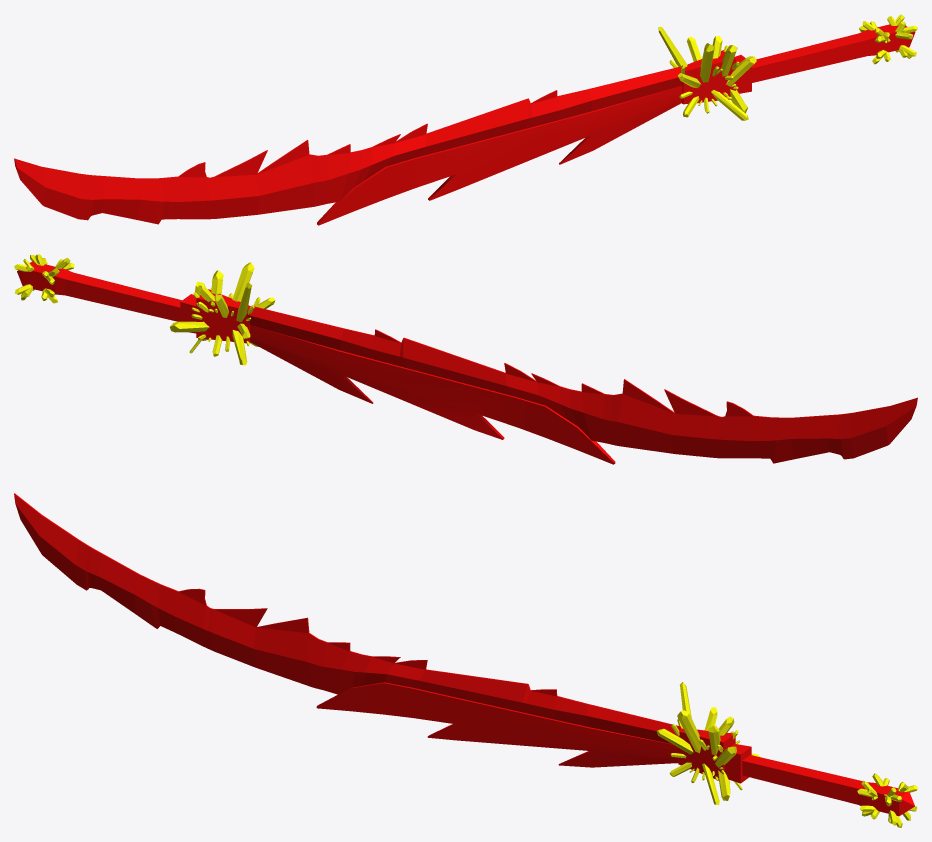
File: Diego_Vivanco.FBX
3 views of the same model, one above another, from view 1: azimuth 30°, elevation 25°; view 2: azimuth 150°, elevation 25°; view 3: azimuth 330°, elevation 25° (orthographic).
Parts seen in each view (by area): view 1: G_Espada; view 2: G_Espada; view 3: G_Espada.
Part boxes in pixels (<box>): G_Espada: <box>14,14,917,225</box>; G_Espada: <box>14,254,917,464</box>; G_Espada: <box>14,493,917,827</box>.
Size of the model in its own units: 349 by 52.89 by 22.64.
